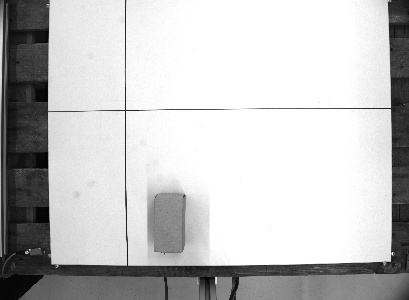b2: (152, 190, 187, 255)
